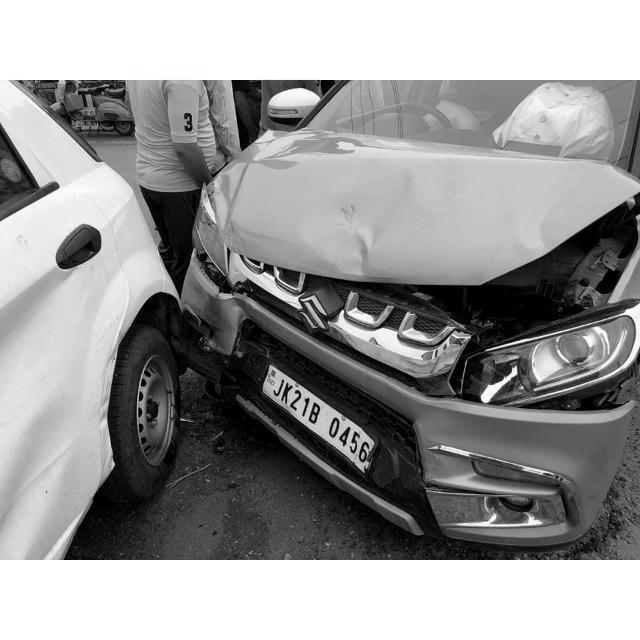Headlight-damage: (463, 304, 640, 421)
bonnet-dent: (227, 148, 603, 282)
front-bumper-dent: (168, 233, 414, 477)
